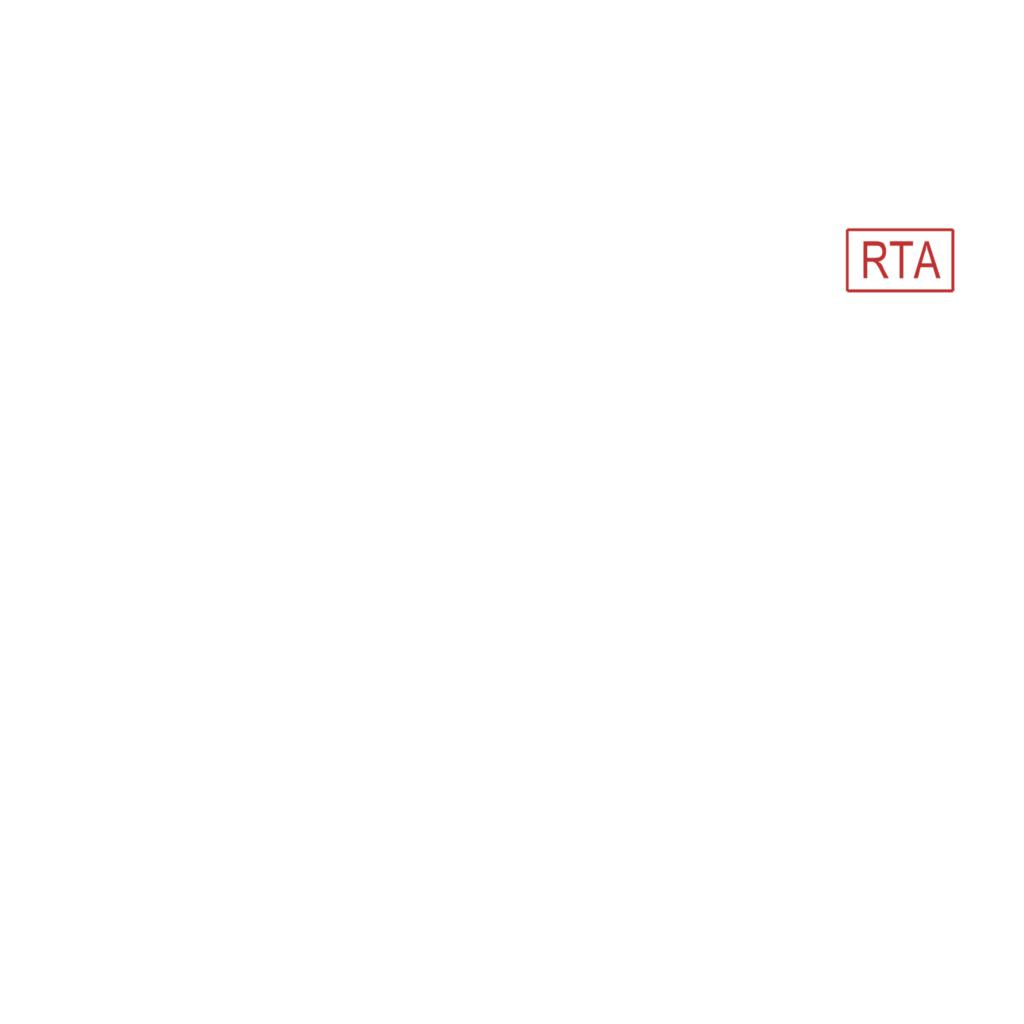Ruf-und_Abstelltaster: (842, 226, 956, 295)
